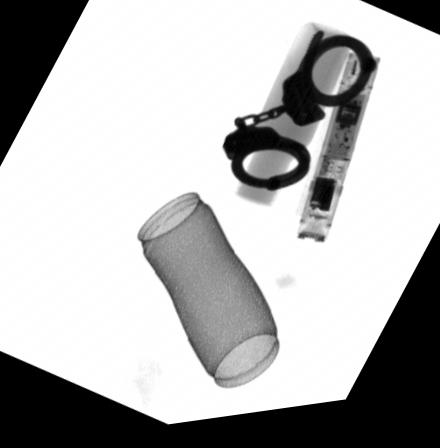Baton: (293, 60, 381, 253)
HandCuffs: (218, 39, 377, 200)
